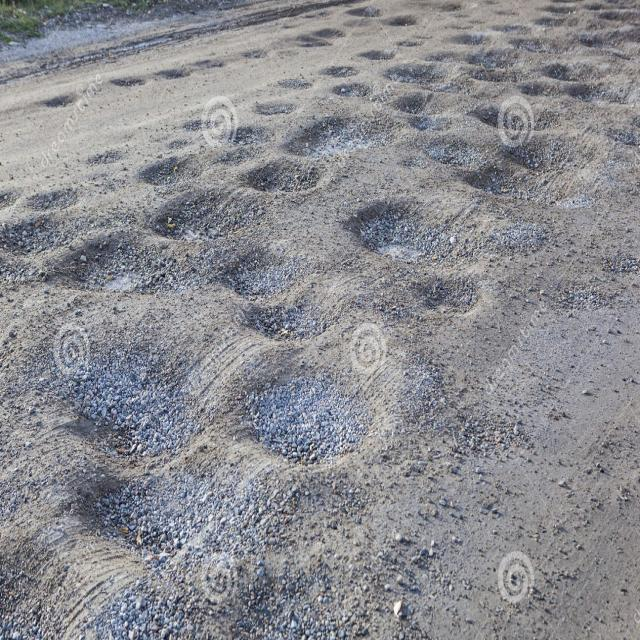pothole1: (263, 501, 413, 636), (232, 358, 386, 465), (72, 333, 210, 448), (83, 467, 218, 546), (100, 588, 247, 640), (203, 226, 305, 290), (498, 114, 597, 179), (44, 242, 162, 296), (480, 214, 563, 289), (362, 190, 430, 262), (384, 284, 510, 318), (151, 195, 231, 239), (452, 156, 528, 202), (235, 158, 344, 190), (288, 113, 397, 144), (17, 171, 92, 216), (515, 70, 565, 105), (257, 90, 309, 120), (6, 218, 53, 251), (431, 133, 479, 165), (399, 84, 447, 115), (296, 26, 337, 61), (568, 88, 635, 109), (544, 47, 582, 84), (148, 54, 190, 86), (470, 104, 507, 133), (90, 144, 131, 170), (104, 72, 150, 95), (384, 8, 420, 36), (232, 42, 269, 67), (179, 116, 221, 138), (437, 2, 488, 20), (330, 82, 372, 103), (341, 7, 379, 30), (469, 63, 508, 85), (193, 52, 222, 77), (613, 122, 640, 148), (352, 49, 398, 64), (324, 60, 356, 81), (278, 72, 315, 89), (159, 138, 194, 154), (575, 30, 603, 48), (50, 90, 85, 104)
